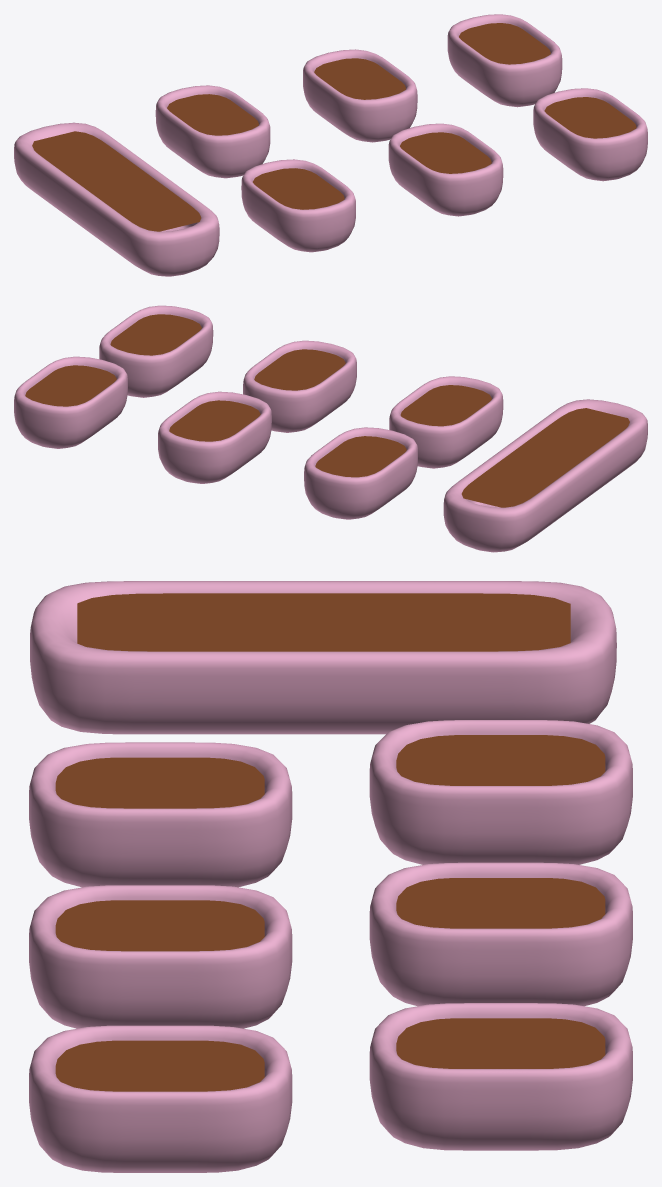
File: huerta_backyard.glb
3 views of the same model, one above another, from view 1: azimuth 30°, elevation 25°; view 2: azimuth 150°, elevation 25°; view 3: azimuth 270°, elevation 25° (orthographic). The views are drawn at different scales.
Visible parts, largest first — view 1: macetas, macetas.001, macetas.005, macetas.006, macetas.007, macetas.003, macetas.004, macetas.002; view 2: macetas, macetas.001, macetas.007, macetas.003, macetas.002, macetas.006, macetas.004, macetas.005; view 3: macetas, macetas.001, macetas.005, macetas.007, macetas.006, macetas.003, macetas.004, macetas.002.
Boxes of the visible parts, <box> form: macetas: <box>14,14,647,276</box>; macetas.001: <box>32,131,201,231</box>; macetas.005: <box>253,168,344,209</box>; macetas.006: <box>400,132,491,173</box>; macetas.007: <box>544,97,636,138</box>; macetas.003: <box>459,23,550,64</box>; macetas.004: <box>167,94,258,135</box>; macetas.002: <box>314,58,405,99</box>; macetas: <box>14,305,647,552</box>; macetas.001: <box>461,408,629,507</box>; macetas.007: <box>110,314,201,355</box>; macetas.003: <box>25,365,116,406</box>; macetas.002: <box>169,400,260,441</box>; macetas.006: <box>254,349,345,390</box>; macetas.004: <box>315,436,406,477</box>; macetas.005: <box>400,385,491,426</box>; macetas: <box>29,581,632,1172</box>; macetas.001: <box>77,593,570,651</box>; macetas.005: <box>55,757,264,808</box>; macetas.007: <box>55,1040,264,1091</box>; macetas.006: <box>55,900,264,951</box>; macetas.003: <box>396,1018,605,1068</box>; macetas.004: <box>396,735,605,785</box>; macetas.002: <box>396,878,605,928</box>.
Size of what is drawn, in the model's own units: 17.32 by 1.99 by 8.9.
